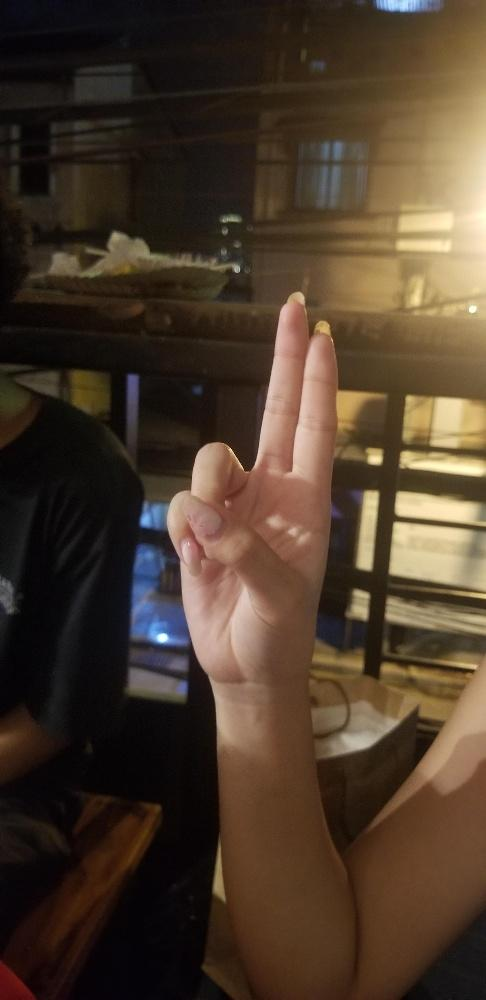u: (164, 286, 339, 685)
